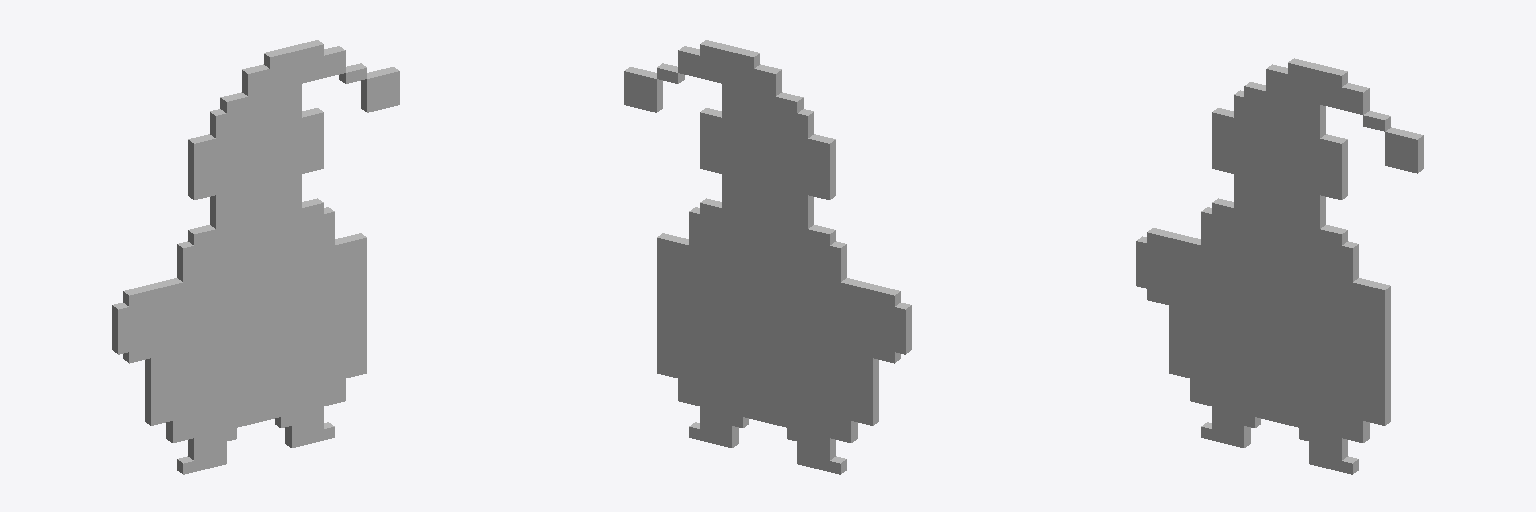
The model's file is santa throw.obj.
3 renders of one model, left to right at view 1: azimuth 30°, elevation 25°; view 2: azimuth 150°, elevation 25°; view 3: azimuth 330°, elevation 25°, orthographic.
Visible parts, largest first — view 1: object 1; view 2: object 1; view 3: object 1.
Part boxes in pixels (x1,y1,x2,y2): object 1: (112, 40, 399, 474); object 1: (624, 40, 911, 474); object 1: (1136, 58, 1423, 474).
Size of the model in its own units: 2.6 by 3.5 by 0.1.